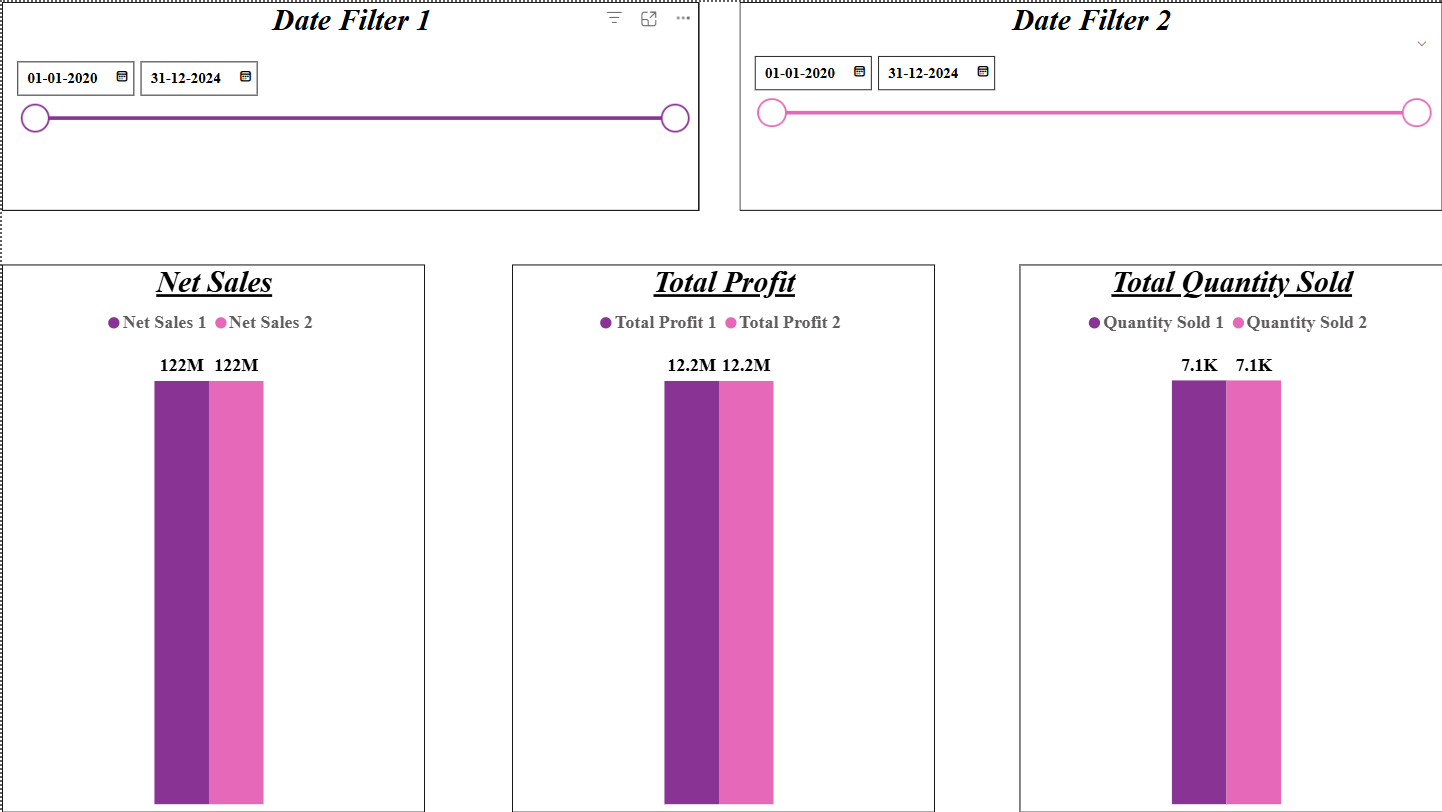

What the dashboard file says about the page in this screenshot:
{"tool":"powerbi","page":{"name":"Comparison Sales/Profit/Quantity","canvas":[1280,720],"ordinal":2},"visuals":[{"type":"slicer","title":"Date Filter 1","fields":{"Values":["Date Table 1.Date"]},"box":[0,0,620,185.7],"z":0},{"type":"slicer","title":"Date Filter 2","fields":{"Values":["Date Table 2.Date"]},"box":[655.7,0,624.3,185.7],"z":1000},{"type":"clusteredColumnChart","title":"Net Sales","fields":{"Y":["Sum(Fact Table.Net Sales)","Date Table 1.Sum of Net Sale"]},"box":[0,232.9,375.7,487.1],"z":2000},{"type":"clusteredColumnChart","title":"Total Profit","fields":{"Y":["Sum(Fact Table.Profit)","Measure Table.Total Profit"]},"box":[452.9,232.9,375.7,487.1],"z":3000},{"type":"clusteredColumnChart","title":"Total Quantity Sold","fields":{"Y":["Sum(Fact Table.Units Sold)","Measure Table.Total Quantity Sold"]},"box":[904.3,232.9,375.7,487.1],"z":4000}]}

Visuals, with their boxes in screenshot pixels (x1, y1, x2, y2), scaled from the page's 1280x720 canvas onto the 1442x812 screenshot:
"Date Filter 1" slicer: bbox(0, 0, 698, 209)
"Date Filter 2" slicer: bbox(739, 0, 1441, 209)
"Net Sales" clusteredColumnChart: bbox(0, 263, 423, 811)
"Total Profit" clusteredColumnChart: bbox(510, 263, 933, 811)
"Total Quantity Sold" clusteredColumnChart: bbox(1019, 263, 1441, 811)
